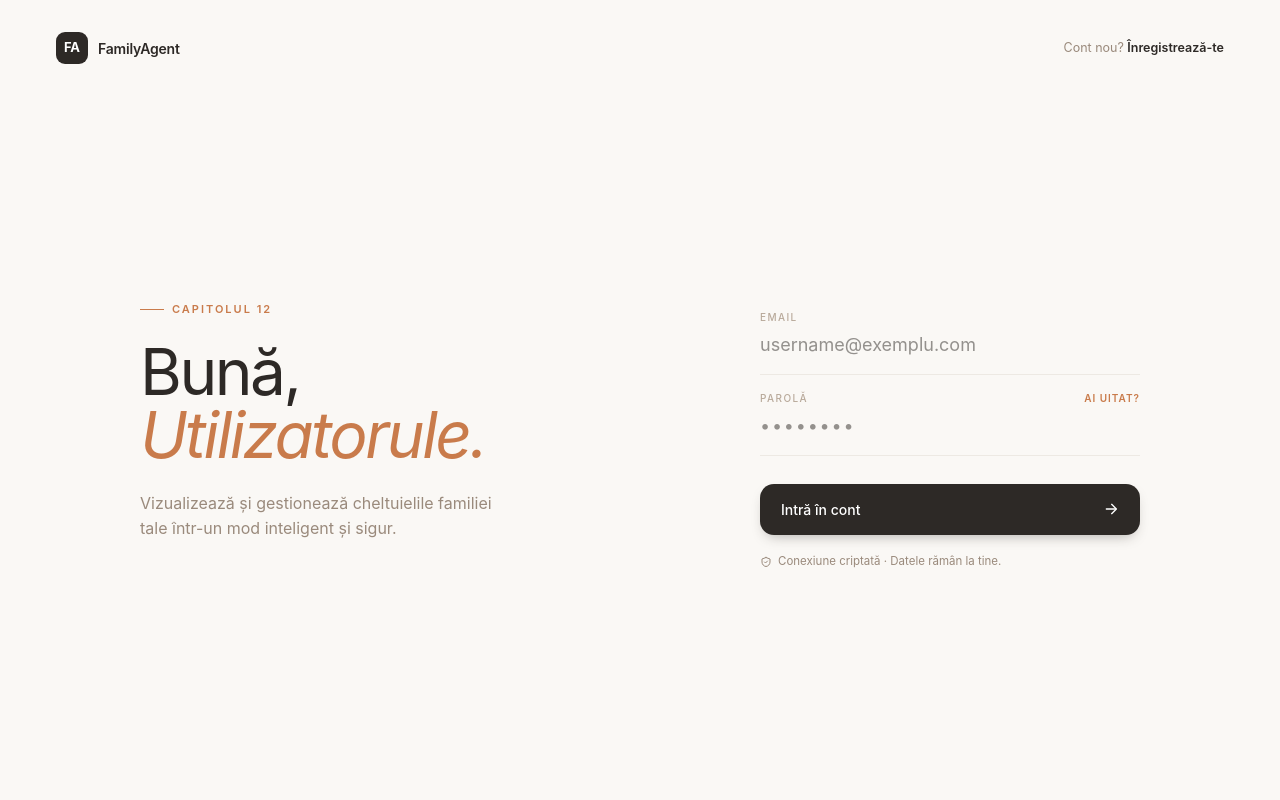
Test case: Login Component - 100% Coverage › 3. Arată eroare pentru format email invalid
The width and height of the screenshot is (1280, 800).
Type "email-incorect" into the field with placeholder "username@exemplu.com" at (950, 344), box [760,331,1140,358]
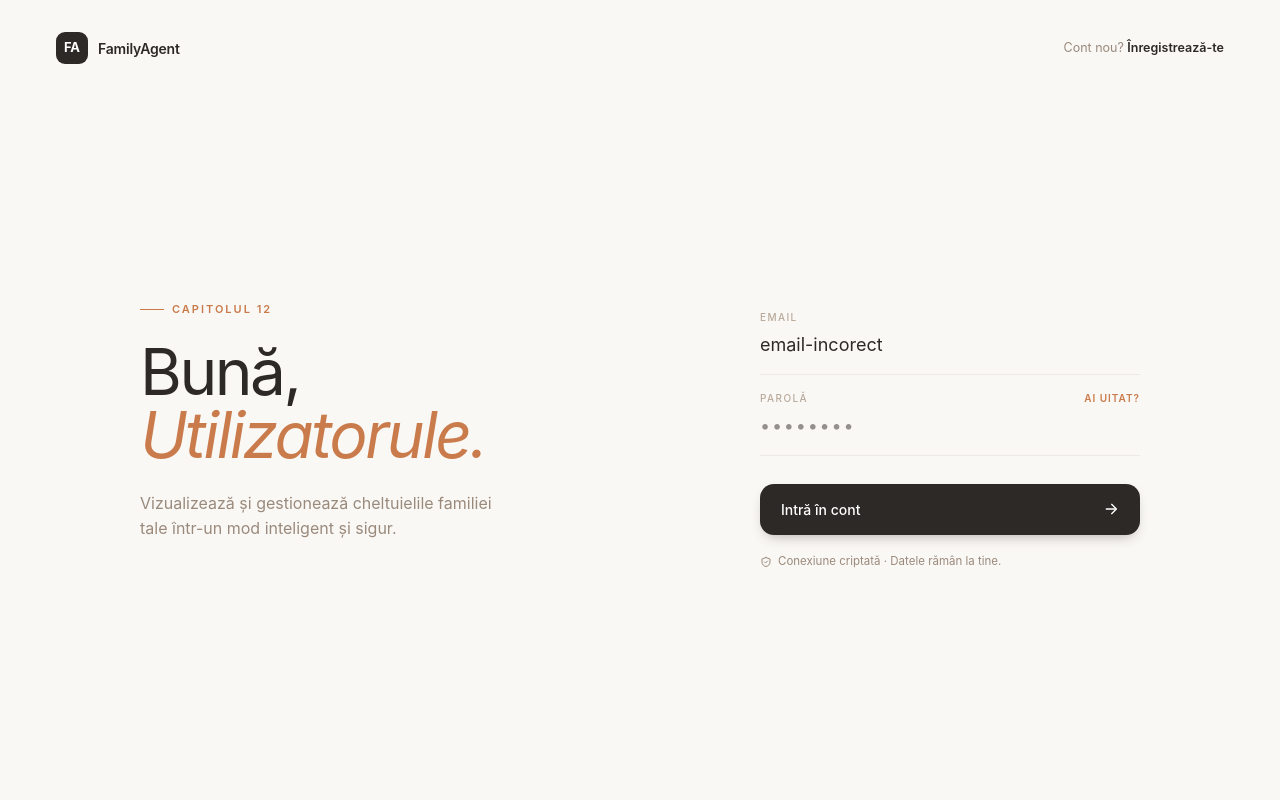
Type "password123" into the password field with placeholder "••••••••" at (950, 425), box [760,412,1140,439]
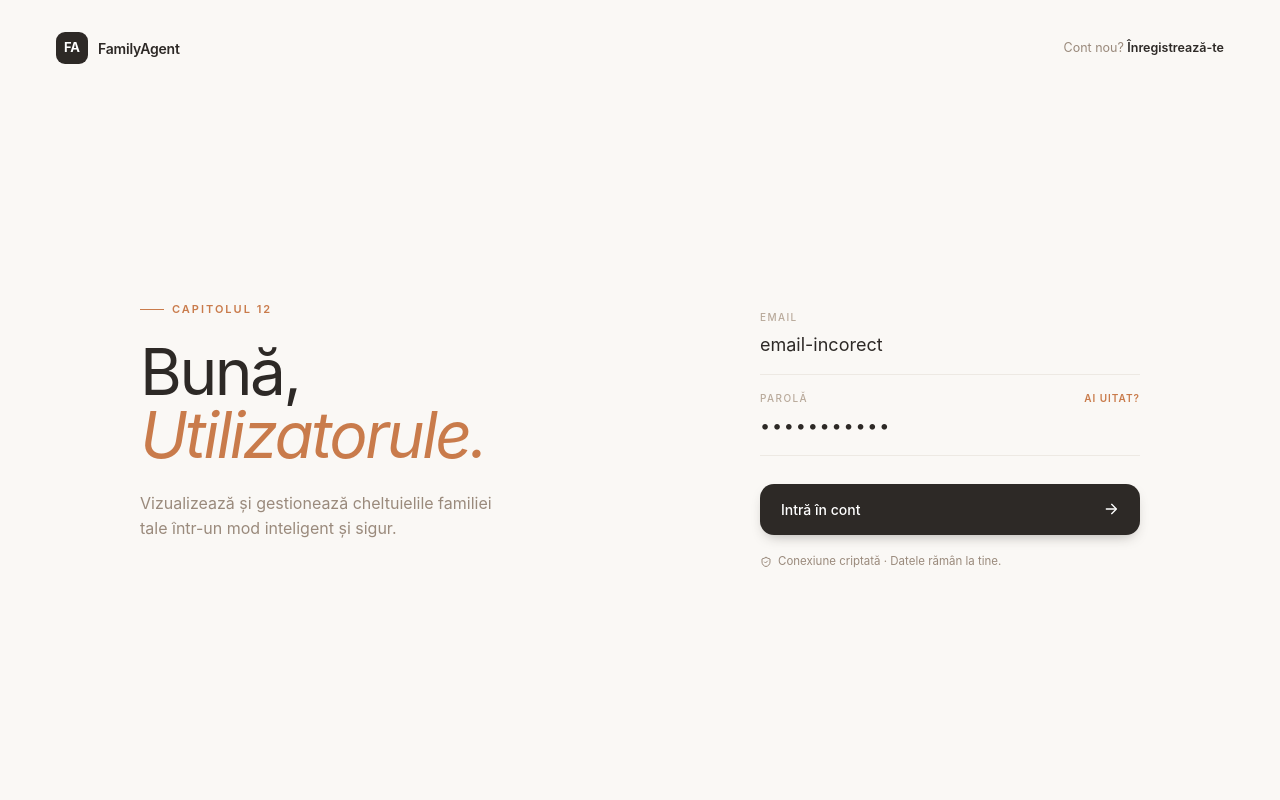
Submit the form with placeholder "username@exemplu.com", box [760,294,1140,570]
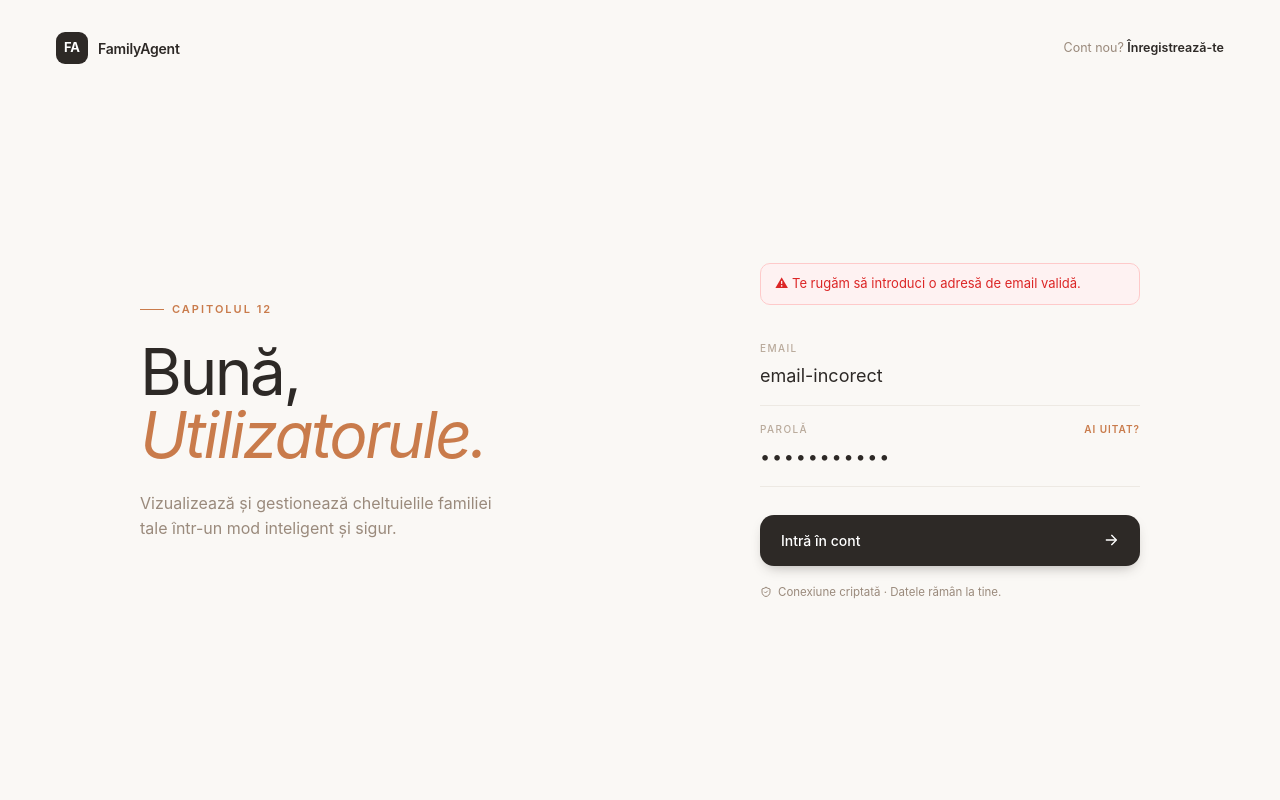
Expected: the text "⚠ Te rugăm să introduci o adresă de email validă." is shown, [760,263,1140,305]
